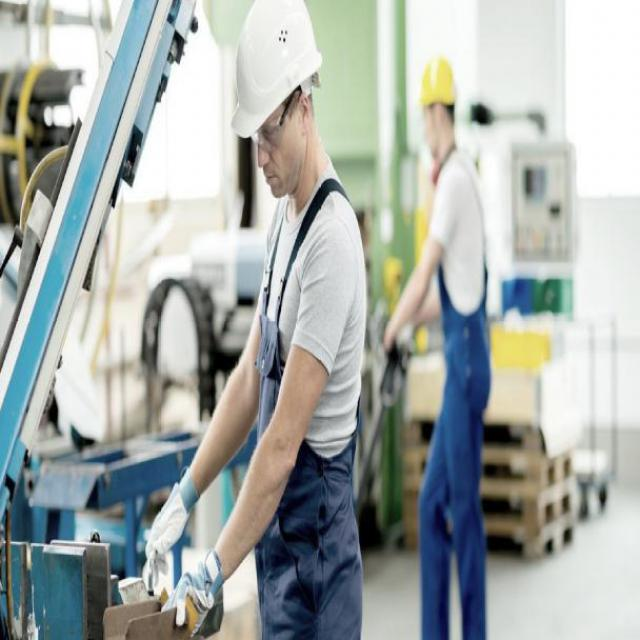gloves: (142, 460, 204, 582), (163, 538, 235, 636)
helmet: (407, 44, 462, 168)
vest: (232, 201, 372, 638), (414, 205, 505, 638)
